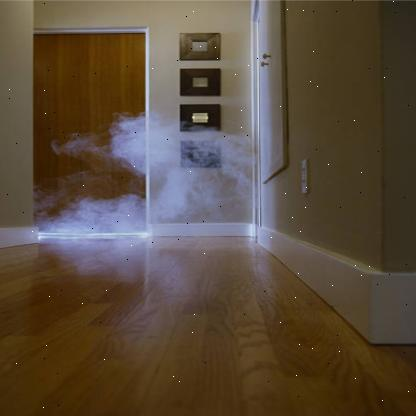smoke: (32, 111, 259, 242)
